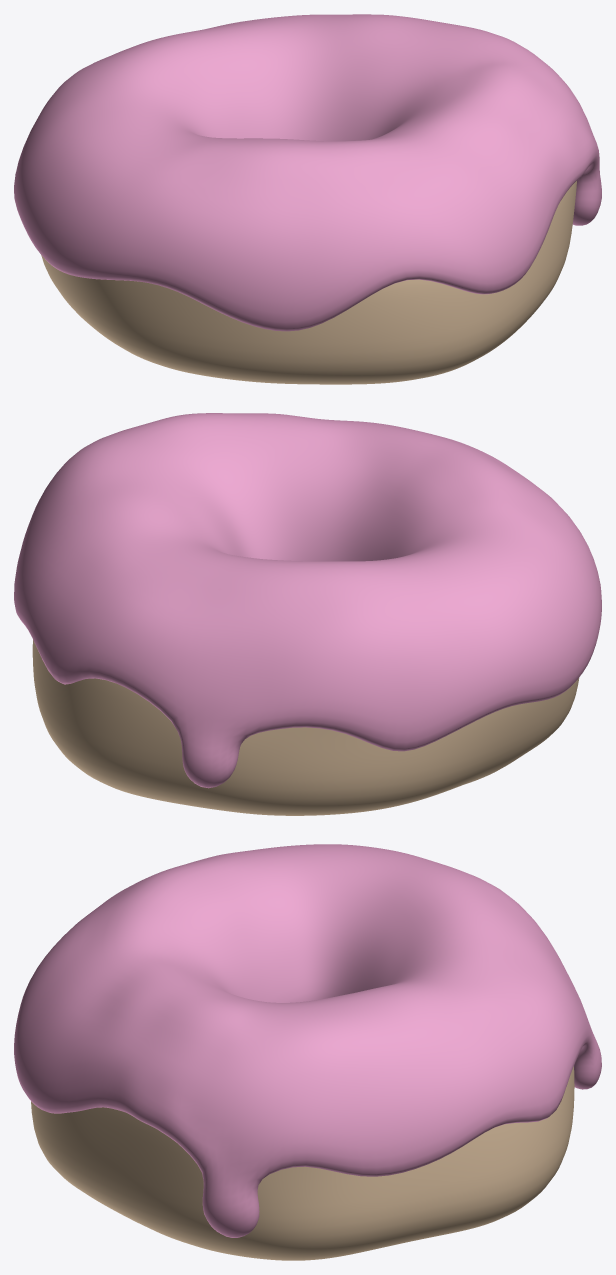
The model's file is Donut.fbx.
The picture shows the model from 3 angles, top to bottom: view 1: azimuth 30°, elevation 25°; view 2: azimuth 150°, elevation 25°; view 3: azimuth 270°, elevation 25°; orthographic projection. The views are drawn at different scales.
Visible parts, largest first — view 1: Icing, Torus; view 2: Icing, Torus; view 3: Icing, Torus.
Part boxes in pixels (x1,y1,x2,y2): Icing: (14,14,601,331); Torus: (41,181,576,384); Icing: (14,413,601,788); Torus: (32,640,579,815); Icing: (14,844,601,1237); Torus: (31,1066,574,1260).
Size of the model in its own units: 10.26 by 4.45 by 9.72.
